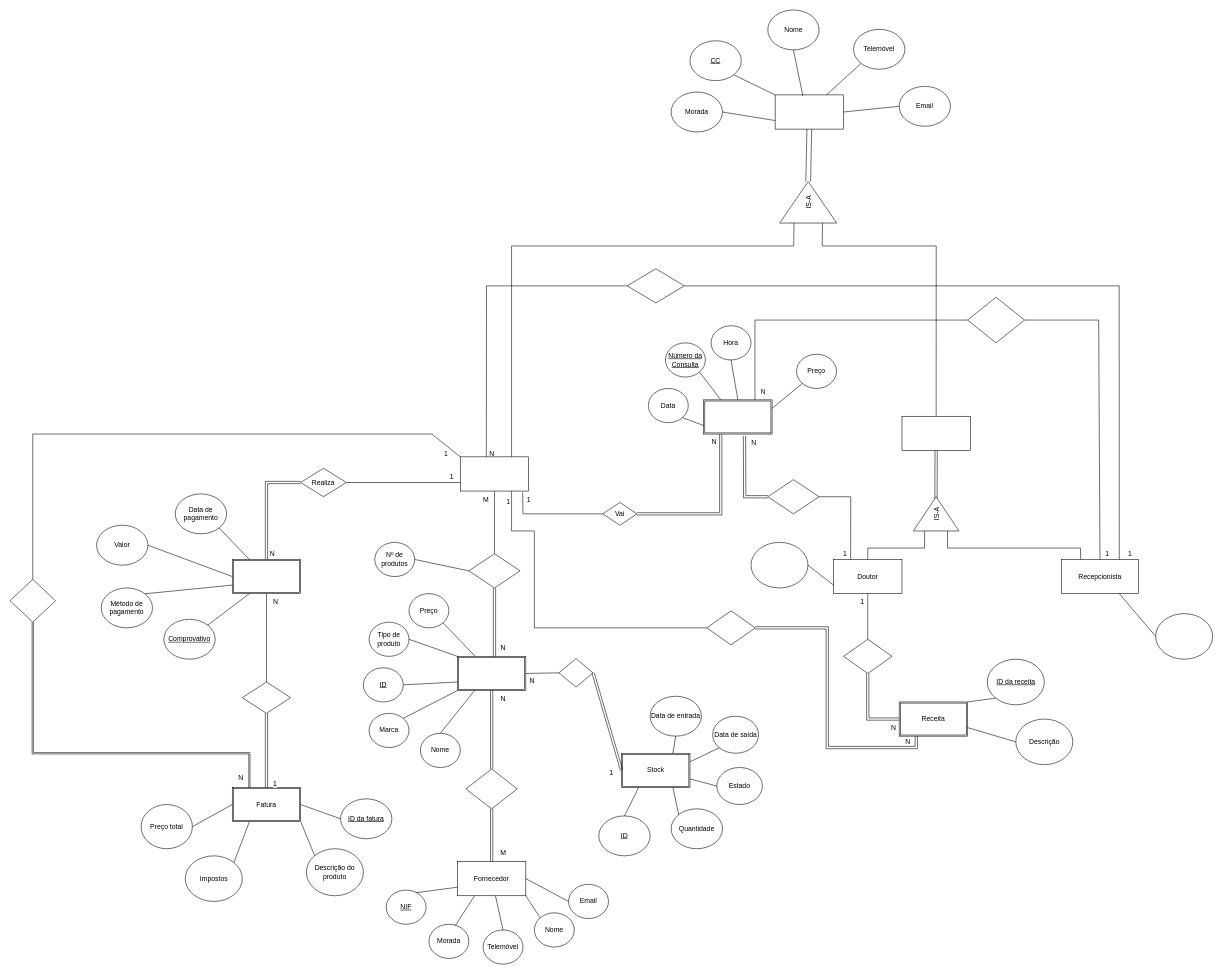
Image size: 1223x974. Some labels were removed from this diagram. The centre of each missing label's shape, as x and y in pixels:
"Agendada por" belongs at (x=996, y=320).
"Cliente" belongs at (x=494, y=473).
"Consulta" belongs at (x=737, y=416).
"Emitida para" belongs at (x=32, y=600).
"Fornecido por" belongs at (x=491, y=788).
"Funcionário" belongs at (x=935, y=433).
"Num SNS" belongs at (x=779, y=565).
"Num_func" belongs at (x=1184, y=636).
"Pagamento" belongs at (x=266, y=576).
"Passada ao" belongs at (x=730, y=627).
"Passada por" belongs at (x=867, y=656).
"Pessoa" belongs at (x=809, y=111).
"Pode ter" belongs at (x=266, y=697).
"Produto" belongs at (x=491, y=673).
"Realizada por" belongs at (x=793, y=496).
"Regista" belongs at (x=655, y=285).
"Tem" belongs at (x=575, y=672).
"Vendido ao" belongs at (x=494, y=570).
